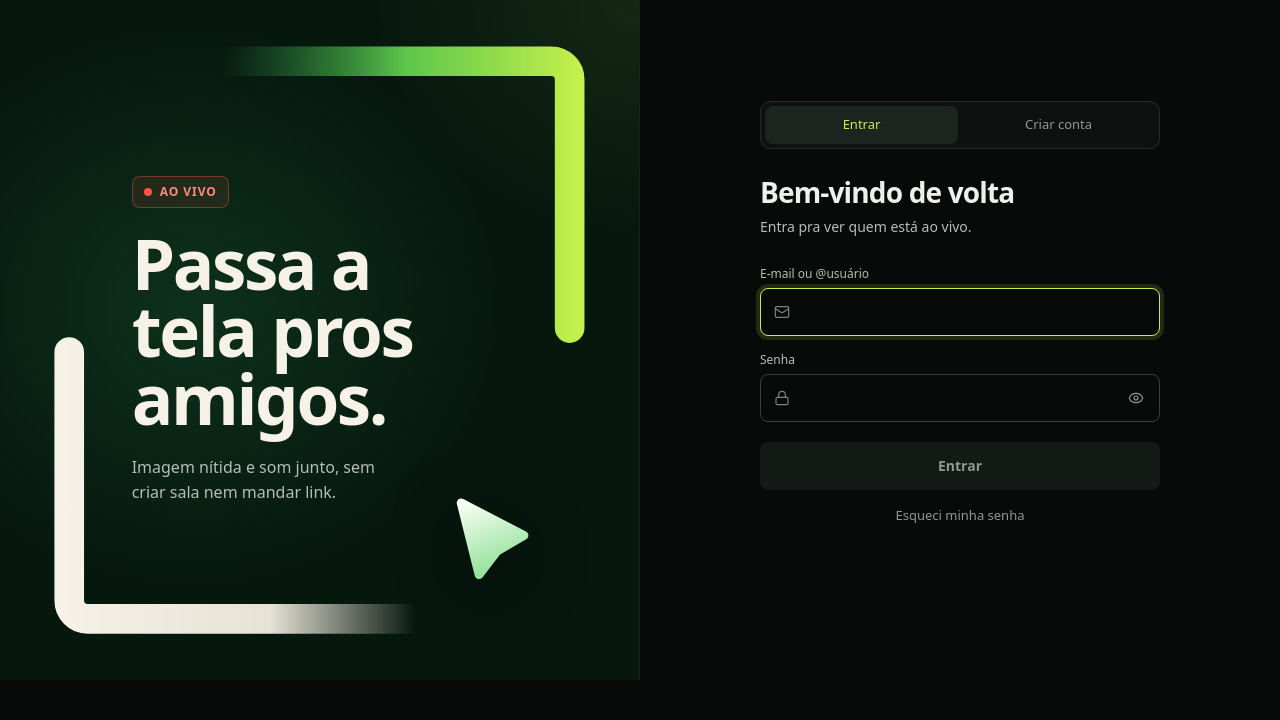
Test: switches between sign in and create account with tabs, without remounting the page
This screenshot has width=1280, height=720.
Click the tab "Criar conta" at (1058, 125), box [962,106,1155,144]
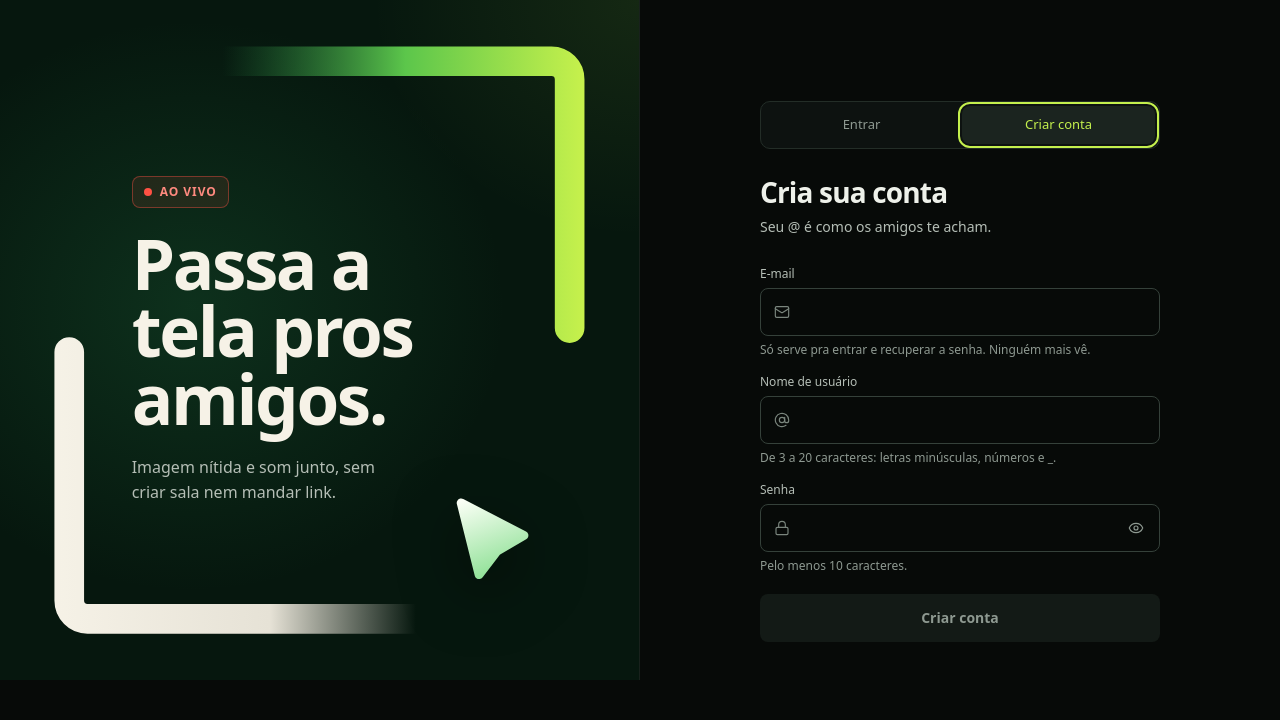
Result: the heading "Cria sua conta" is shown at [760,173,947,211]
Click the tab "Entrar" at (862, 125), box [765,106,958,144]
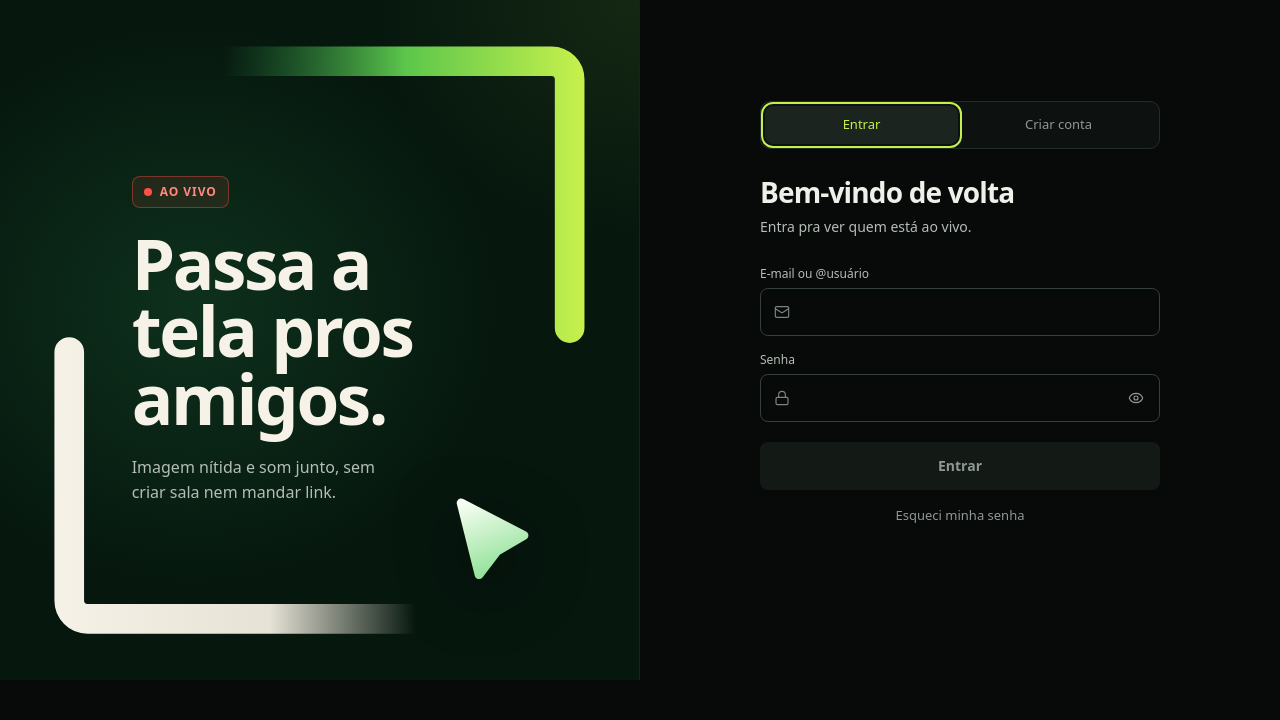
Result: the heading "Bem-vindo de volta" is shown at [760,173,1014,211]
